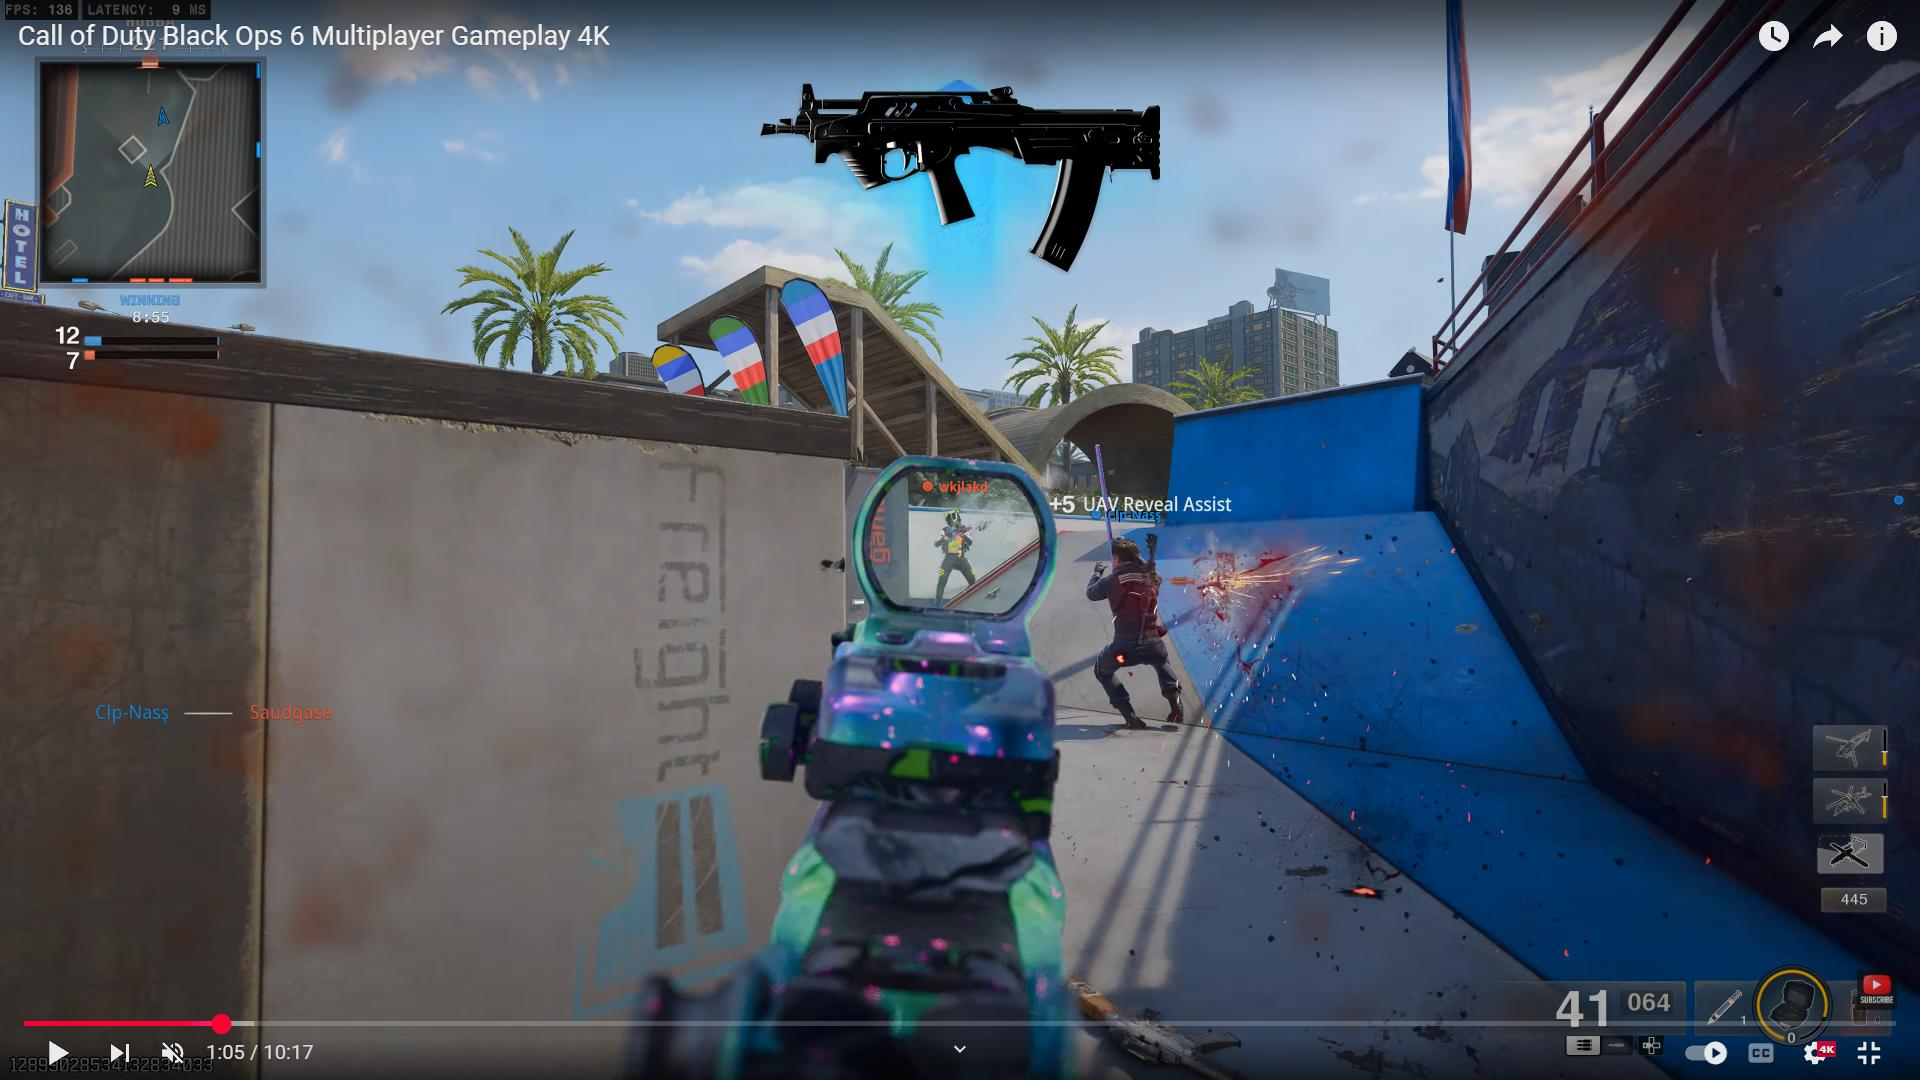Enemy: (1079, 539, 1184, 731), (934, 509, 977, 599)
